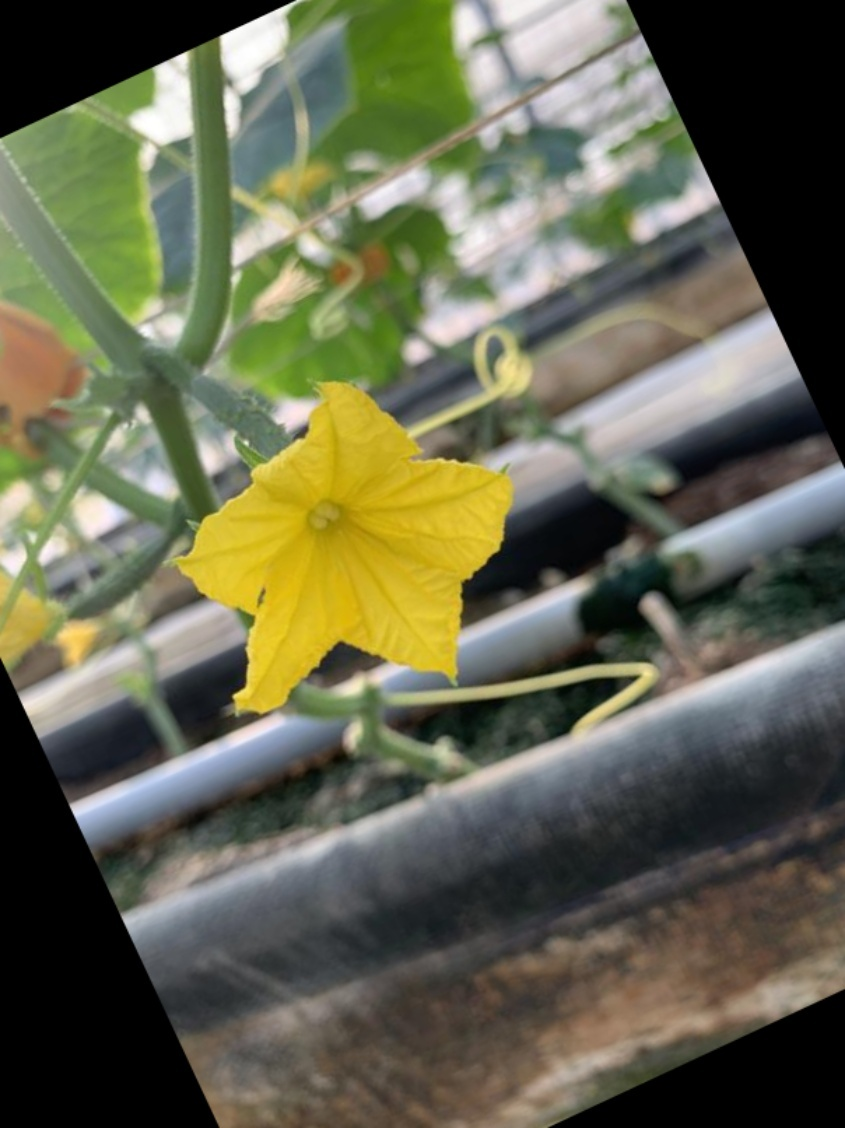flowering: (99, 361, 523, 721)
